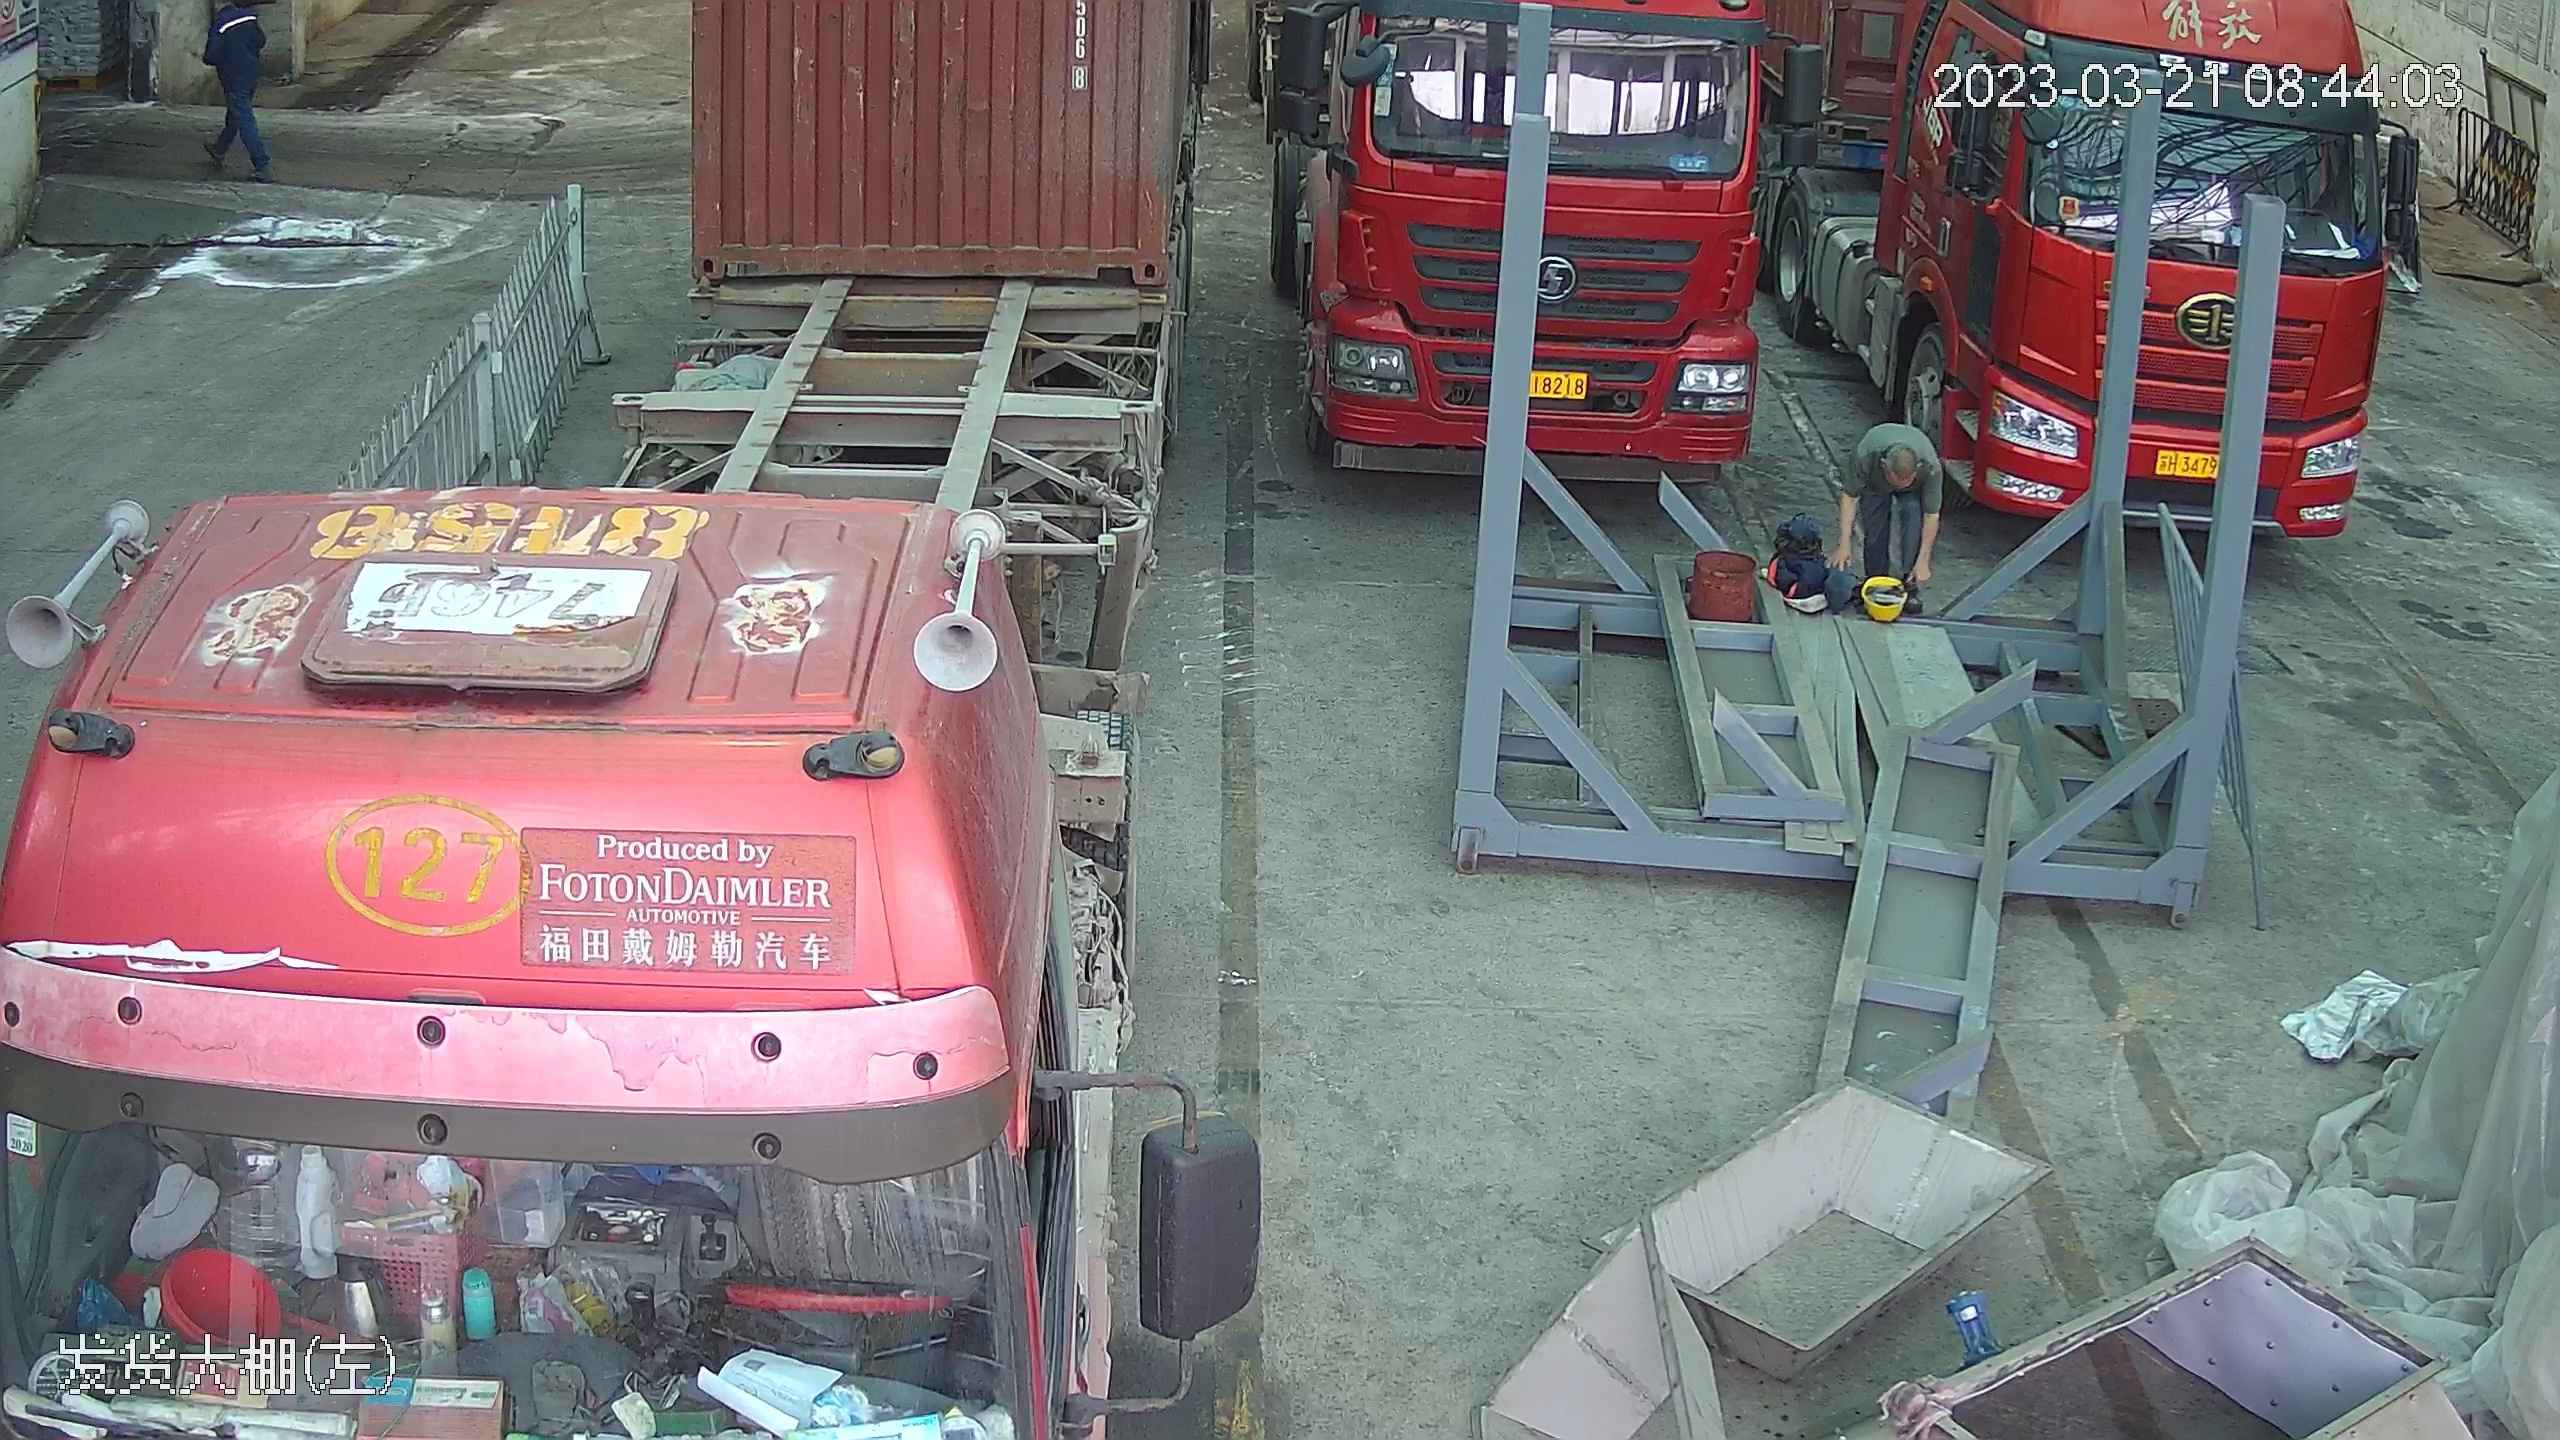head: (1863, 426, 1938, 496)
people: (1829, 419, 1954, 610), (187, 1, 285, 181)
truck: (1, 1, 1183, 1440), (1816, 9, 2427, 543), (1259, 1, 1790, 474)
